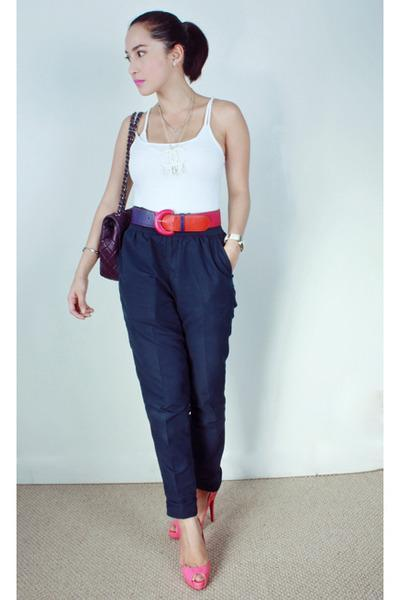bag: (95, 204, 131, 279)
pants: (113, 228, 236, 518)
shirt: (119, 109, 227, 222)
shoe: (156, 489, 216, 587)
